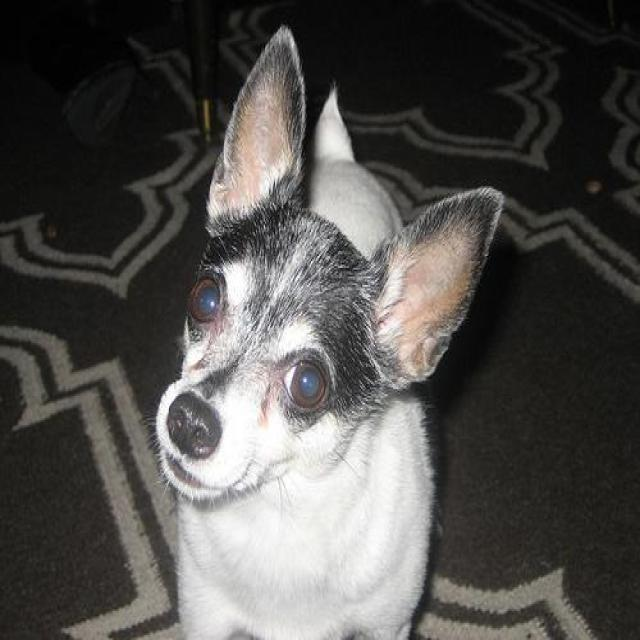toy_terrier: (142, 24, 502, 638)
